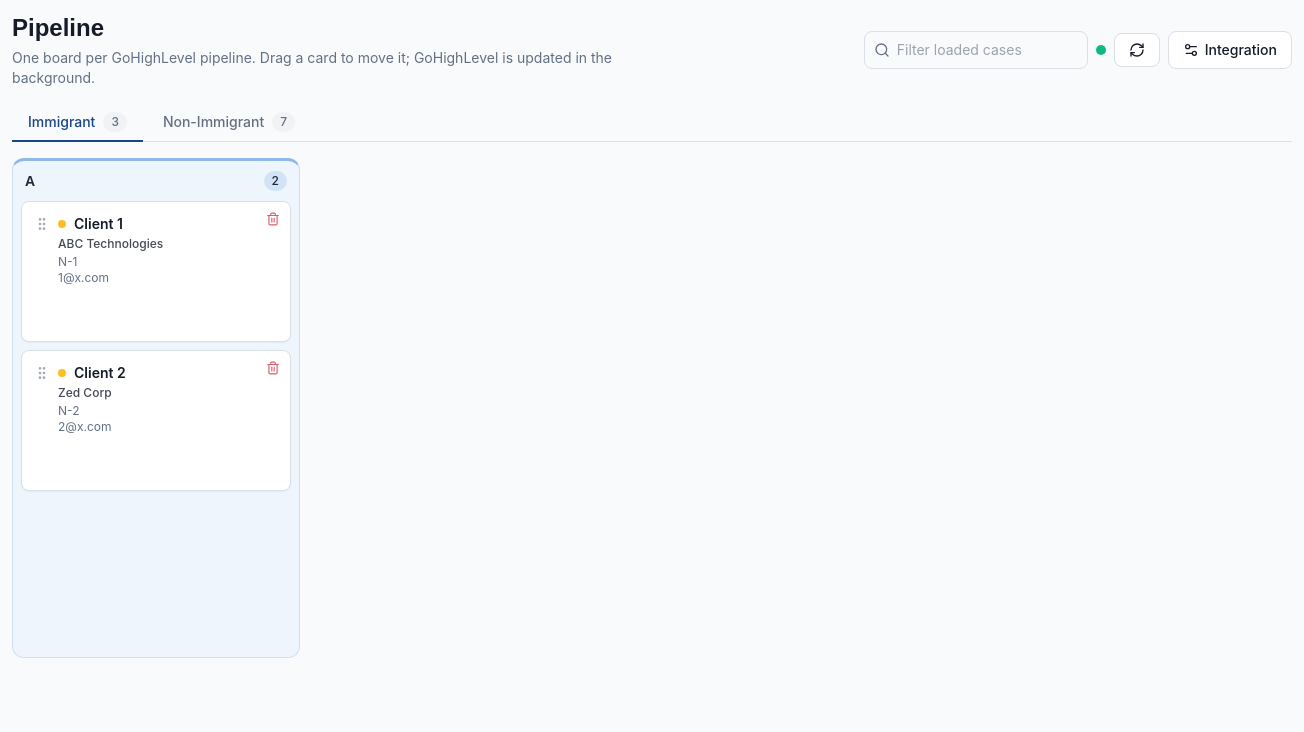
Pipeline page › the filter also finds cards by employer name
The width and height of the screenshot is (1304, 732).
Step 1. Type "zed" into the field labelled "Filter loaded cases" → point(976, 50), box [864, 31, 1088, 69]
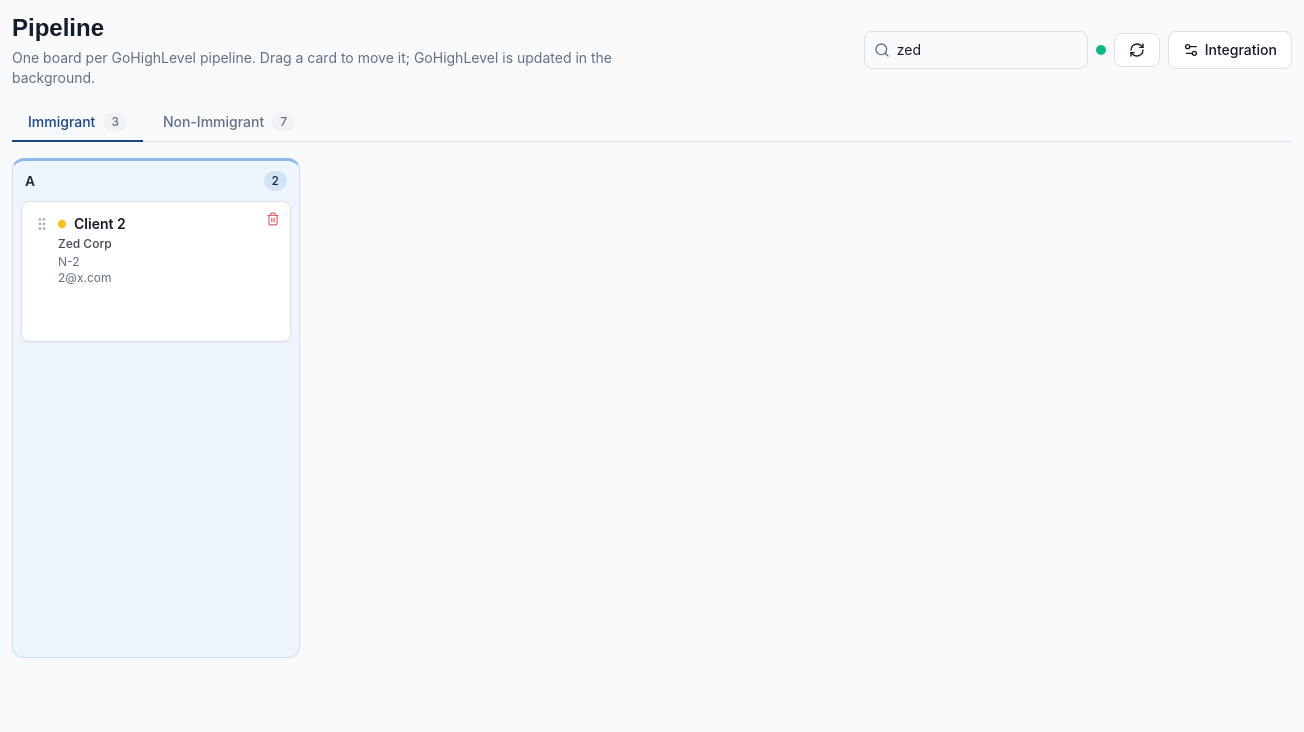
Expected: the text "Client 2" is shown, [74, 214, 126, 234]
Expected: the button "Client 1" is gone
